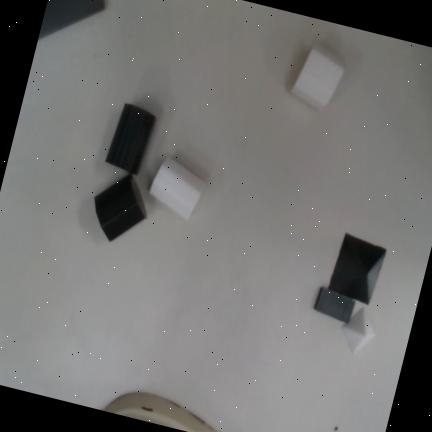Paralelepipedo: (312, 286, 355, 324)
Piramide: (327, 231, 386, 305), (340, 305, 375, 353)
Prisma_hexagonal: (105, 102, 157, 176), (289, 43, 345, 110), (148, 157, 206, 221), (93, 173, 147, 241)
